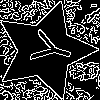Y: (20, 25, 76, 70)
